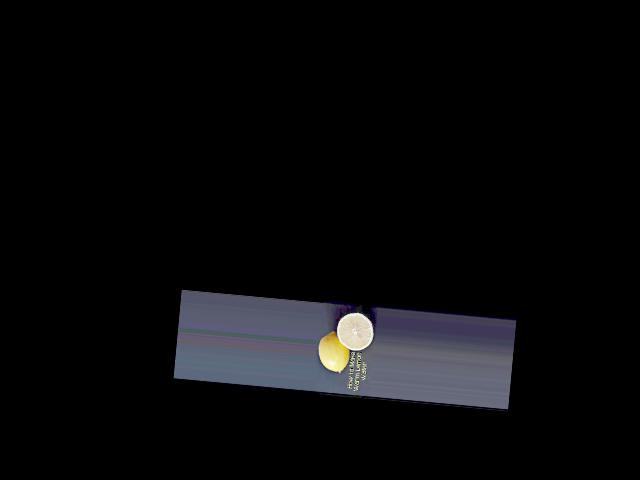lemon: (315, 331, 349, 375)
